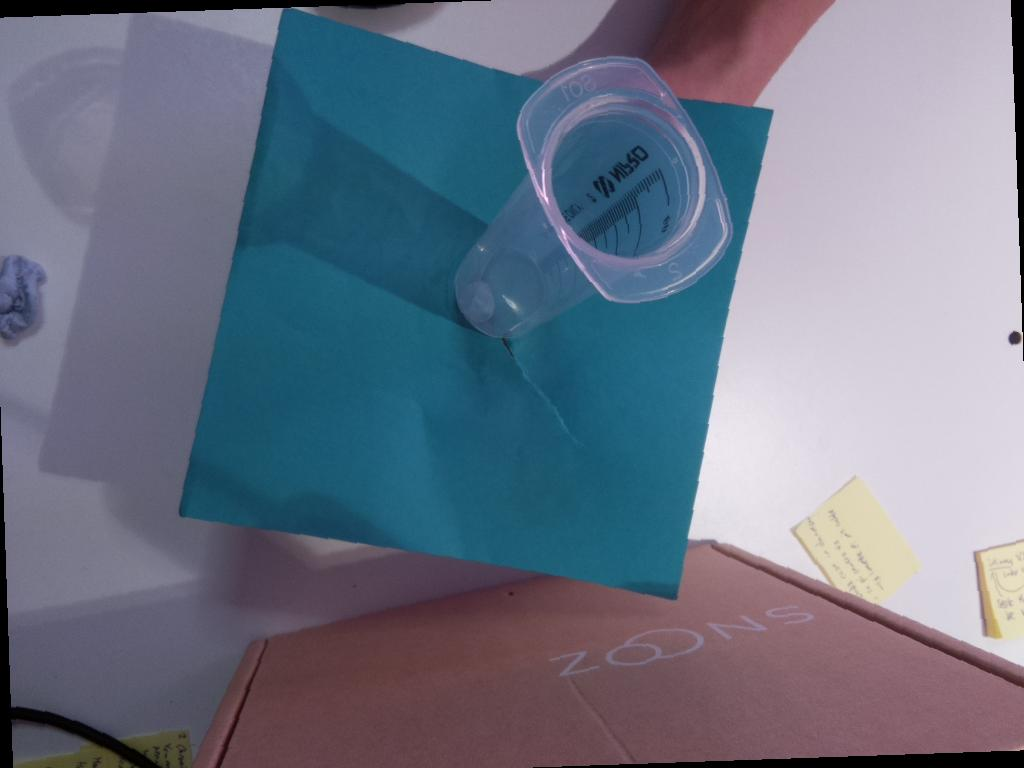clean: (516, 52, 736, 308)
